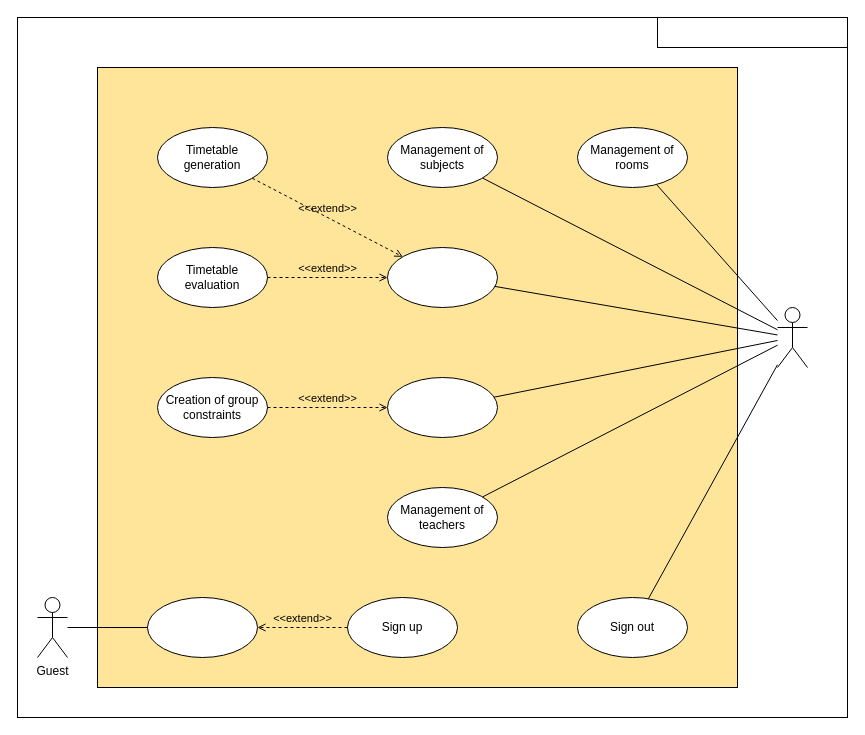
This 865x735 diagram has some shape labels left out. Here are the shapes that lost their labels. From the top down, the box of each, then its label:
(656, 16, 848, 48): School Timetable Generator
(386, 246, 498, 308): Management of timetable
(776, 306, 808, 368): Authorized User
(386, 376, 498, 438): Management of groups
(146, 596, 258, 658): Sign in
